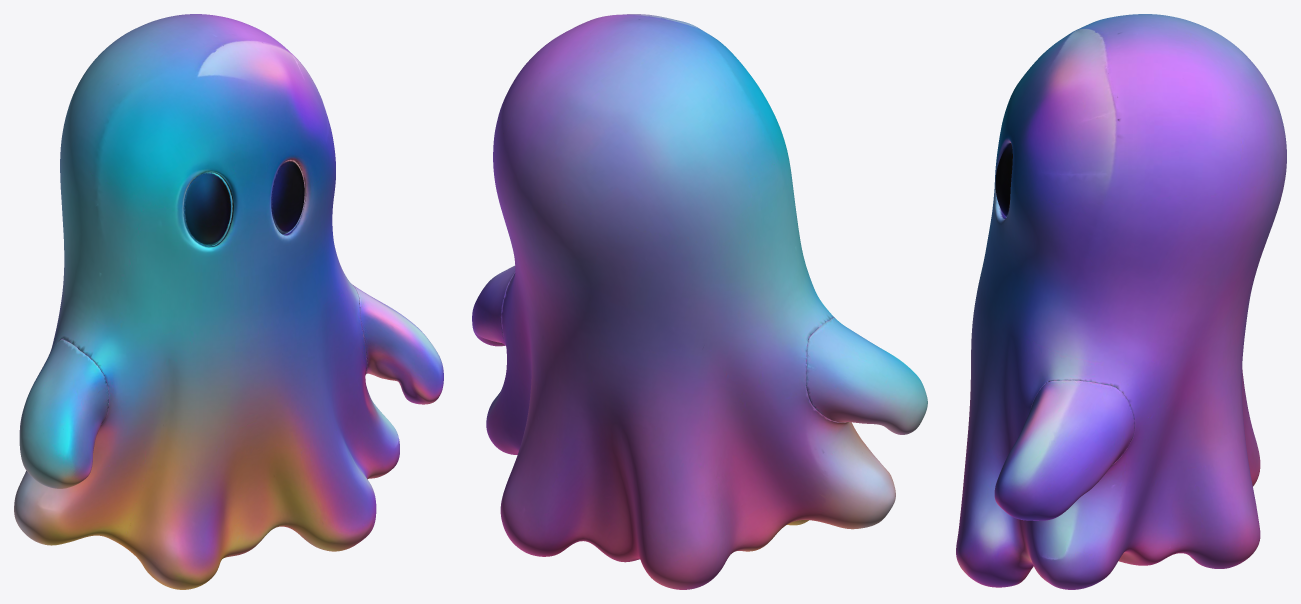
3 renders of one model, left to right at view 1: azimuth 30°, elevation 25°; view 2: azimuth 150°, elevation 25°; view 3: azimuth 270°, elevation 25°, orthographic. The views are drawn at different scales.
Parts seen in each view (by area): view 1: body, arm_R, arm_L; view 2: body, arm_R, arm_L; view 3: body, arm_L.
Part boxes in pixels (bbox=[...]): body: bbox=[14, 14, 399, 589]; arm_R: bbox=[19, 339, 108, 488]; arm_L: bbox=[354, 286, 443, 404]; body: bbox=[486, 14, 895, 589]; arm_R: bbox=[806, 317, 927, 434]; arm_L: bbox=[472, 265, 515, 346]; body: bbox=[956, 14, 1286, 589]; arm_L: bbox=[994, 380, 1134, 520].
Size of the model in its own units: 0.8737 by 1 by 0.5705.
3 materials, 3 textured.
